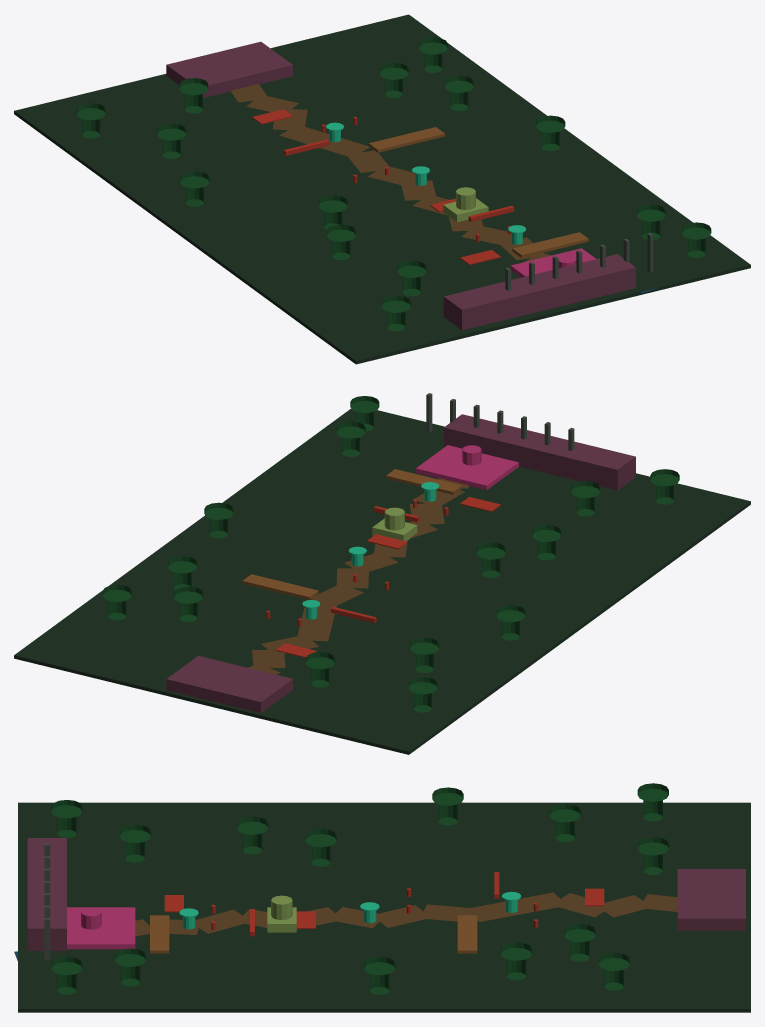
The model's file is ShadowrunJungleMap.obj.
3 views of the same model, one above another, from view 1: azimuth 30°, elevation 25°; view 2: azimuth 150°, elevation 25°; view 3: azimuth 270°, elevation 25° (orthographic). The views are drawn at different scales.
Visible parts, largest first — view 1: ZoneGround, SisterTempleGate, Canopy, MainRoute, JungleFoliage, FallenHomeTemple, WaterfallBridge, TempleGatePillar, RivalNinjaArena; view 2: ZoneGround, SisterTempleGate, Canopy, MainRoute, JungleFoliage, FallenHomeTemple, RivalNinjaArena, WaterfallBridge, TempleGatePillar; view 3: ZoneGround, Canopy, MainRoute, JungleFoliage, FallenHomeTemple, SisterTempleGate, RivalNinjaArena, WaterfallBridge, TempleGatePillar, RuinedShrine, ShrinePillar, BossSpawn.
Part boxes in pixels (x1,y1,x2,y2): ZoneGround: [14, 14, 750, 364]; SisterTempleGate: [443, 254, 635, 330]; Canopy: [76, 37, 711, 312]; MainRoute: [230, 84, 550, 261]; JungleFoliage: [82, 53, 705, 331]; FallenHomeTemple: [166, 41, 292, 97]; WaterfallBridge: [368, 127, 588, 257]; TempleGatePillar: [505, 233, 653, 290]; RivalNinjaArena: [510, 248, 596, 277]; ZoneGround: [14, 409, 750, 754]; SisterTempleGate: [443, 414, 635, 490]; Canopy: [102, 396, 679, 694]; MainRoute: [248, 478, 468, 674]; JungleFoliage: [108, 411, 673, 712]; FallenHomeTemple: [166, 655, 292, 713]; RivalNinjaArena: [416, 445, 518, 490]; WaterfallBridge: [242, 469, 462, 599]; TempleGatePillar: [426, 393, 574, 450]; ZoneGround: [18, 802, 750, 1012]; Canopy: [51, 783, 668, 975]; MainRoute: [135, 892, 677, 936]; JungleFoliage: [57, 800, 662, 994]; FallenHomeTemple: [677, 869, 745, 930]; SisterTempleGate: [27, 838, 66, 950]; RivalNinjaArena: [67, 907, 135, 949]; WaterfallBridge: [150, 915, 477, 953]; TempleGatePillar: [44, 843, 50, 959]; RuinedShrine: [267, 907, 296, 932]; ShrinePillar: [271, 895, 292, 919]; BossSpawn: [81, 907, 101, 929].
Size of the model in its own units: 100 by 10.9 by 151.
